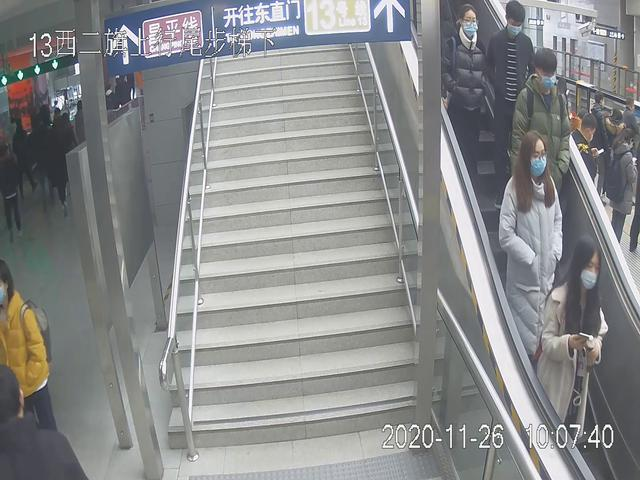person: (495, 129, 566, 384), (528, 230, 609, 452), (507, 47, 574, 255), (488, 1, 537, 211), (439, 2, 486, 197)
